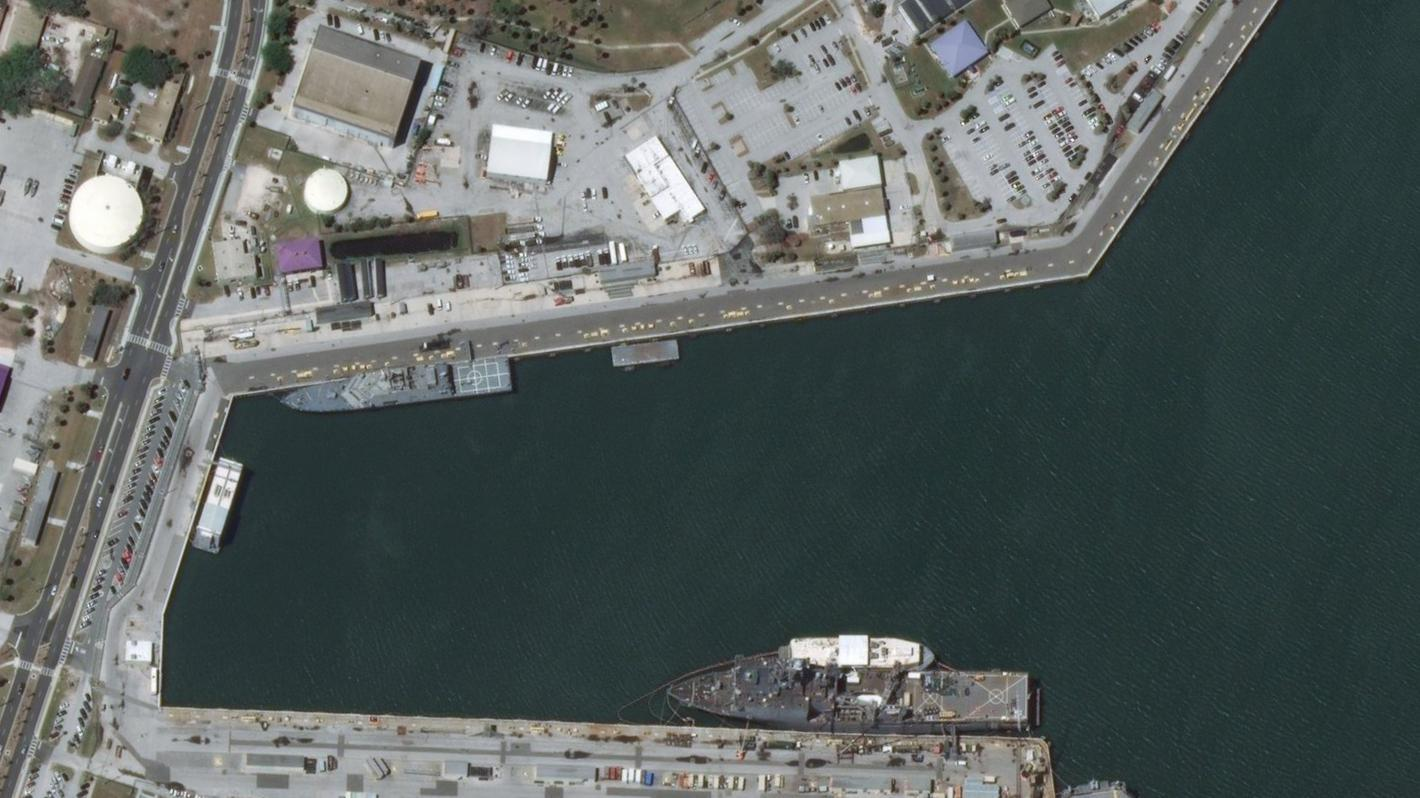amphiby: (642, 640, 1048, 747)
patrol: (270, 347, 522, 417)
